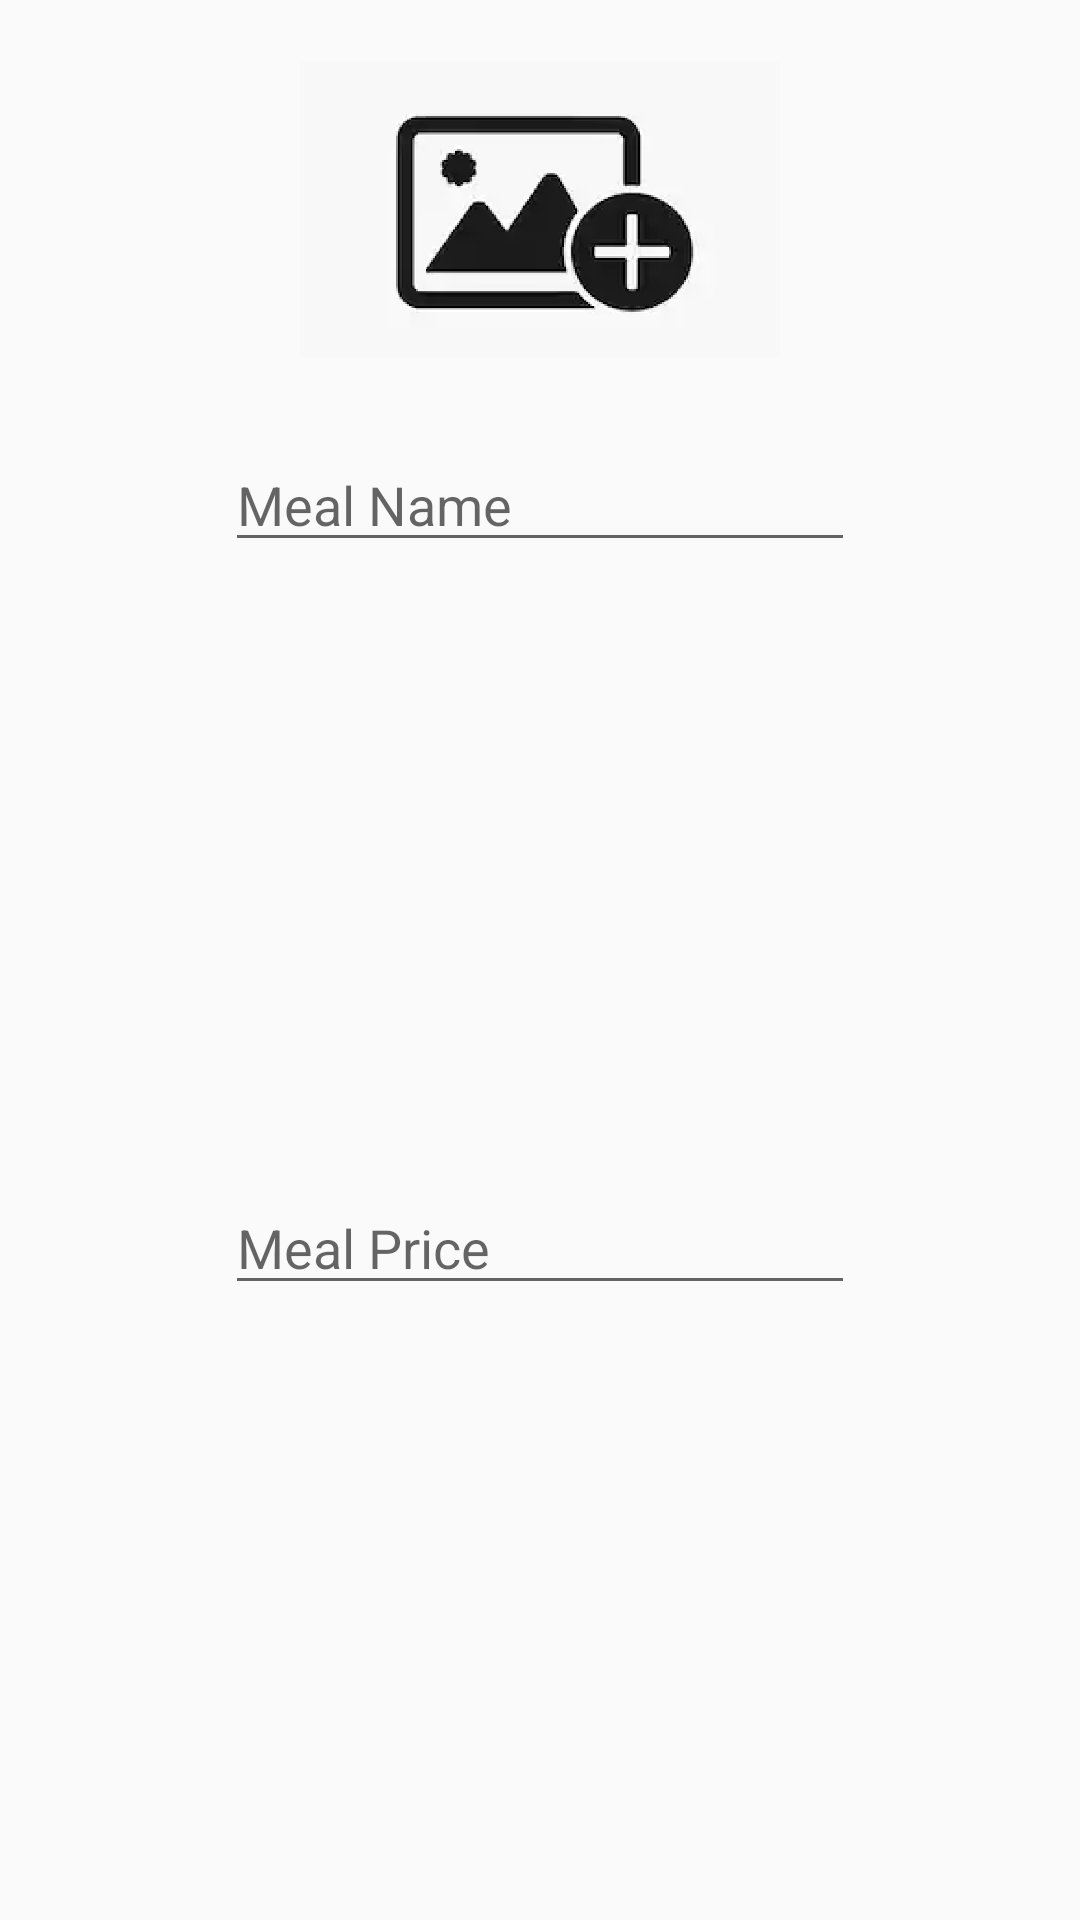

Where to tap for icons on this 1080px x 1920px app screen, as (x,y):
upload: (545,214)
